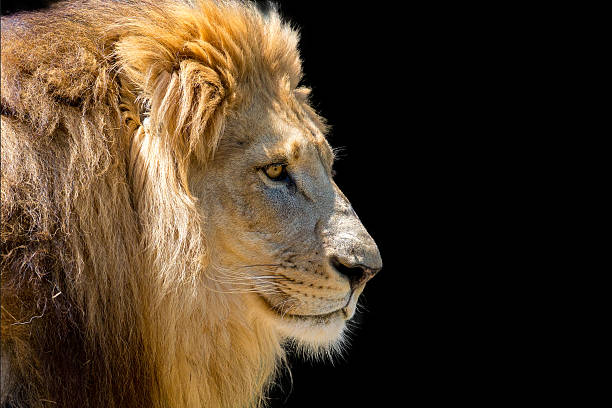lion: (4, 3, 412, 408)
